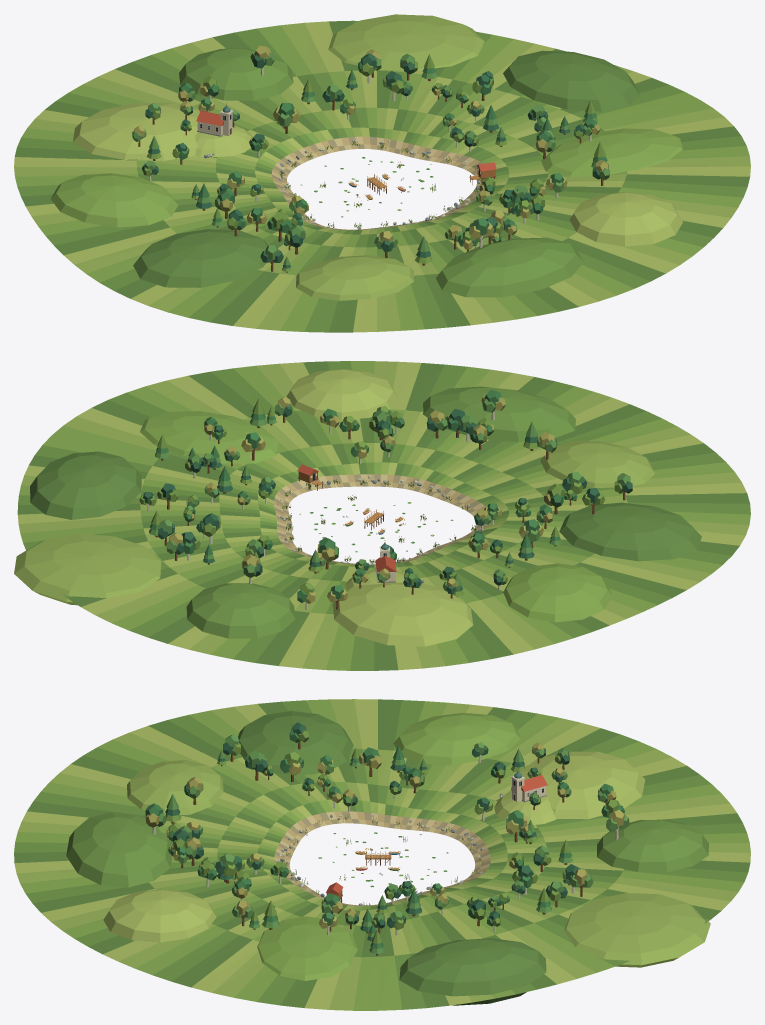
The model's file is molo.glb.
3 renders of one model, top to bottom at view 1: azimuth 30°, elevation 25°; view 2: azimuth 150°, elevation 25°; view 3: azimuth 270°, elevation 25°, orthographic.
Visible parts, largest first — view 1: banks_grass_shade, banks_grass_lime, banks_grass_fern, banks_grass_sun, banks_grass_moss, woodland_leaf_green, woodland_leaf_soft, woodland_leaf_deep, woodland_leaf_sun, woodland_leaf_ochre, banks_shore_ochre, banks_shore_sand (+3 smaller); view 2: banks_grass_lime, banks_grass_shade, banks_grass_sun, banks_grass_fern, banks_grass_moss, woodland_leaf_soft, woodland_leaf_deep, woodland_leaf_green, woodland_leaf_sun, woodland_leaf_ochre, banks_shore_sand, banks_shore_ochre (+2 smaller); view 3: banks_grass_lime, banks_grass_fern, banks_grass_shade, banks_grass_sun, banks_grass_moss, woodland_leaf_soft, woodland_leaf_deep, woodland_leaf_sun, woodland_leaf_green, woodland_leaf_ochre, banks_shore_sand, banks_shore_ochre (+3 smaller).
Part boxes in pixels (box(x1,y1,x2,y2)): banks_grass_shade: box(14, 20, 749, 332); banks_grass_lime: box(14, 14, 750, 331); banks_grass_fern: box(15, 25, 749, 331); banks_grass_sun: box(14, 21, 750, 332); banks_grass_moss: box(17, 20, 747, 332); woodland_leaf_green: box(179, 61, 607, 246); woodland_leaf_soft: box(133, 49, 609, 265); woodland_leaf_deep: box(132, 53, 600, 268); woodland_leaf_sun: box(143, 54, 606, 271); woodland_leaf_ochre: box(134, 45, 608, 249); banks_shore_ochre: box(272, 136, 480, 230); banks_shore_sand: box(271, 136, 483, 230); banks_grass_lime: box(14, 361, 749, 669); banks_grass_shade: box(17, 361, 749, 670); banks_grass_sun: box(18, 361, 746, 670); banks_grass_fern: box(19, 361, 750, 670); banks_grass_moss: box(18, 361, 750, 670); woodland_leaf_soft: box(149, 399, 630, 599); woodland_leaf_deep: box(143, 405, 632, 593); woodland_leaf_green: box(147, 389, 594, 602); woodland_leaf_sun: box(139, 398, 623, 596); woodland_leaf_ochre: box(169, 393, 569, 603); banks_shore_sand: box(274, 474, 490, 564); banks_shore_ochre: box(274, 474, 488, 565); banks_grass_lime: box(16, 699, 750, 1010); banks_grass_fern: box(15, 699, 749, 1010); banks_grass_shade: box(14, 699, 750, 1007); banks_grass_sun: box(14, 699, 750, 1009); banks_grass_moss: box(14, 700, 748, 1009); woodland_leaf_soft: box(157, 734, 629, 953); woodland_leaf_deep: box(165, 722, 608, 940); woodland_leaf_sun: box(165, 727, 619, 943); woodland_leaf_green: box(145, 730, 624, 948); woodland_leaf_ochre: box(146, 742, 624, 928); banks_shore_sand: box(274, 811, 490, 906); banks_shore_ochre: box(274, 811, 490, 905).
Size of the model in its own units: 204 by 21.22 by 203.
